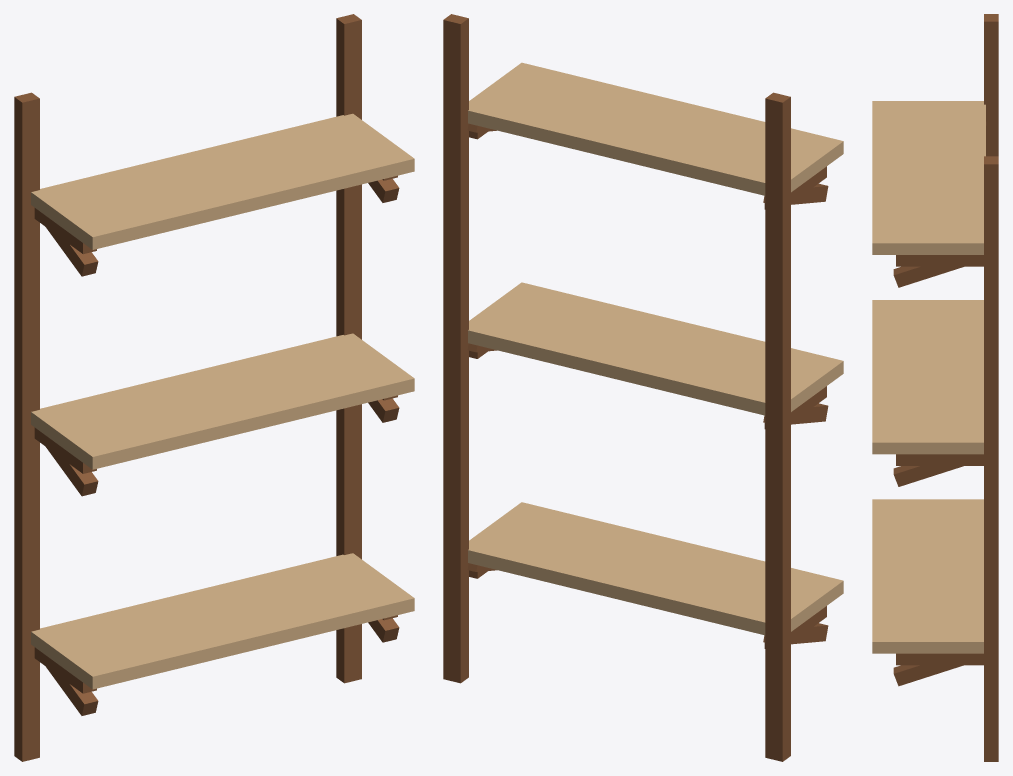
Rendered from initial-side-bracket.glb.
3 views of the same model, side by side, from view 1: azimuth 30°, elevation 25°; view 2: azimuth 150°, elevation 25°; view 3: azimuth 270°, elevation 25° (orthographic). The views are drawn at different scales.
Visible parts, largest first — view 1: wall-shelf-board-lower, wall-shelf-board-middle, wall-shelf-board-top, side-bracket-wall-rail-left, side-bracket-wall-rail-right, side-bracket-brace-middle-left, side-bracket-brace-top-left, side-bracket-brace-lower-left; view 2: wall-shelf-board-top, wall-shelf-board-lower, wall-shelf-board-middle, side-bracket-wall-rail-left, side-bracket-wall-rail-right; view 3: wall-shelf-board-lower, wall-shelf-board-middle, wall-shelf-board-top, side-bracket-wall-rail-right, side-bracket-wall-rail-left, side-bracket-brace-lower-right, side-bracket-arm-middle-right, side-bracket-arm-top-right, side-bracket-brace-top-right, side-bracket-brace-middle-right, side-bracket-arm-lower-right.
Boxes of the visible parts, bbox=[...] form: wall-shelf-board-lower: bbox=[31, 553, 414, 689]; wall-shelf-board-middle: bbox=[31, 333, 414, 469]; wall-shelf-board-top: bbox=[31, 113, 414, 249]; side-bracket-wall-rail-left: bbox=[14, 92, 39, 761]; side-bracket-wall-rail-right: bbox=[336, 14, 361, 683]; side-bracket-brace-middle-left: bbox=[34, 427, 98, 496]; side-bracket-brace-top-left: bbox=[34, 208, 98, 276]; side-bracket-brace-lower-left: bbox=[34, 647, 98, 715]; wall-shelf-board-top: bbox=[468, 62, 843, 195]; wall-shelf-board-lower: bbox=[468, 502, 843, 635]; wall-shelf-board-middle: bbox=[468, 282, 843, 415]; side-bracket-wall-rail-left: bbox=[765, 92, 790, 761]; side-bracket-wall-rail-right: bbox=[443, 14, 468, 683]; wall-shelf-board-lower: bbox=[872, 499, 983, 653]; wall-shelf-board-middle: bbox=[872, 300, 983, 454]; wall-shelf-board-top: bbox=[872, 101, 985, 254]; side-bracket-wall-rail-right: bbox=[984, 156, 998, 761]; side-bracket-wall-rail-left: bbox=[984, 14, 998, 156]; side-bracket-brace-lower-right: bbox=[893, 653, 983, 686]; side-bracket-arm-middle-right: bbox=[896, 454, 983, 465]; side-bracket-arm-top-right: bbox=[896, 255, 983, 266]; side-bracket-brace-top-right: bbox=[893, 255, 983, 287]; side-bracket-brace-middle-right: bbox=[893, 455, 977, 486]; side-bracket-arm-lower-right: bbox=[896, 653, 983, 665].
Size of the model in its own units: 0.97 by 1.8 by 0.345.
